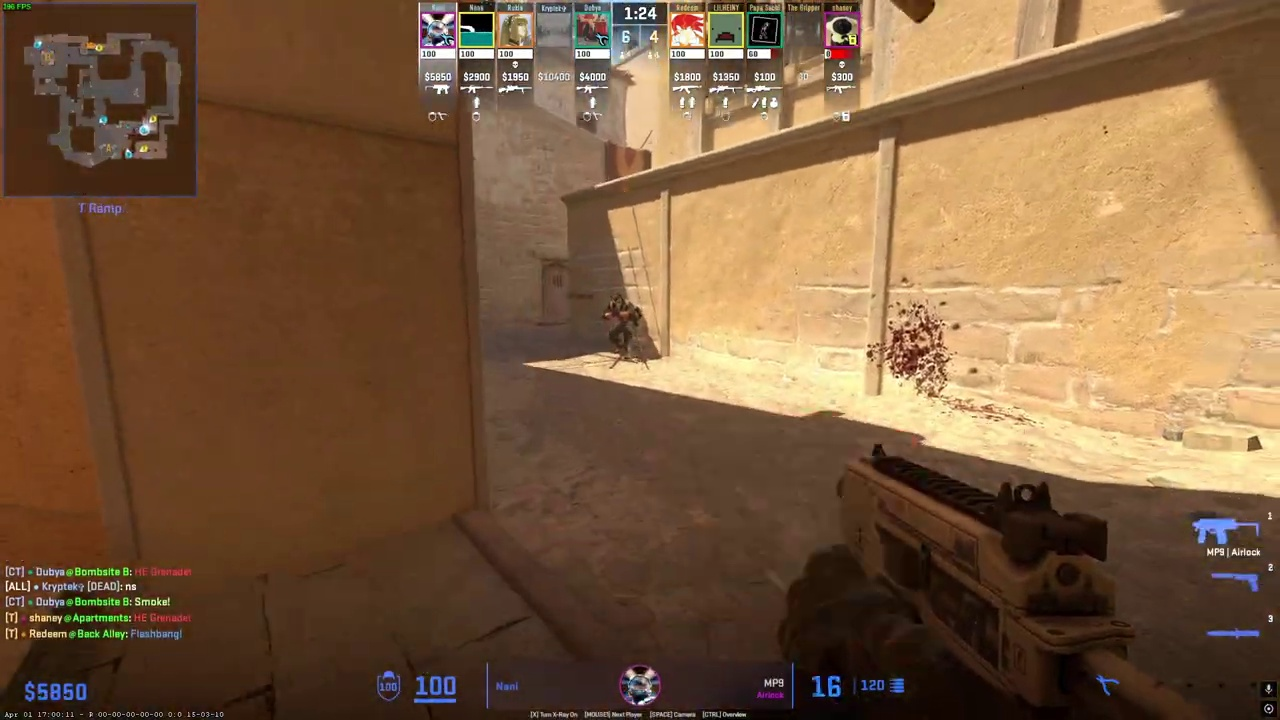Terrorist: (603, 293, 641, 359)
